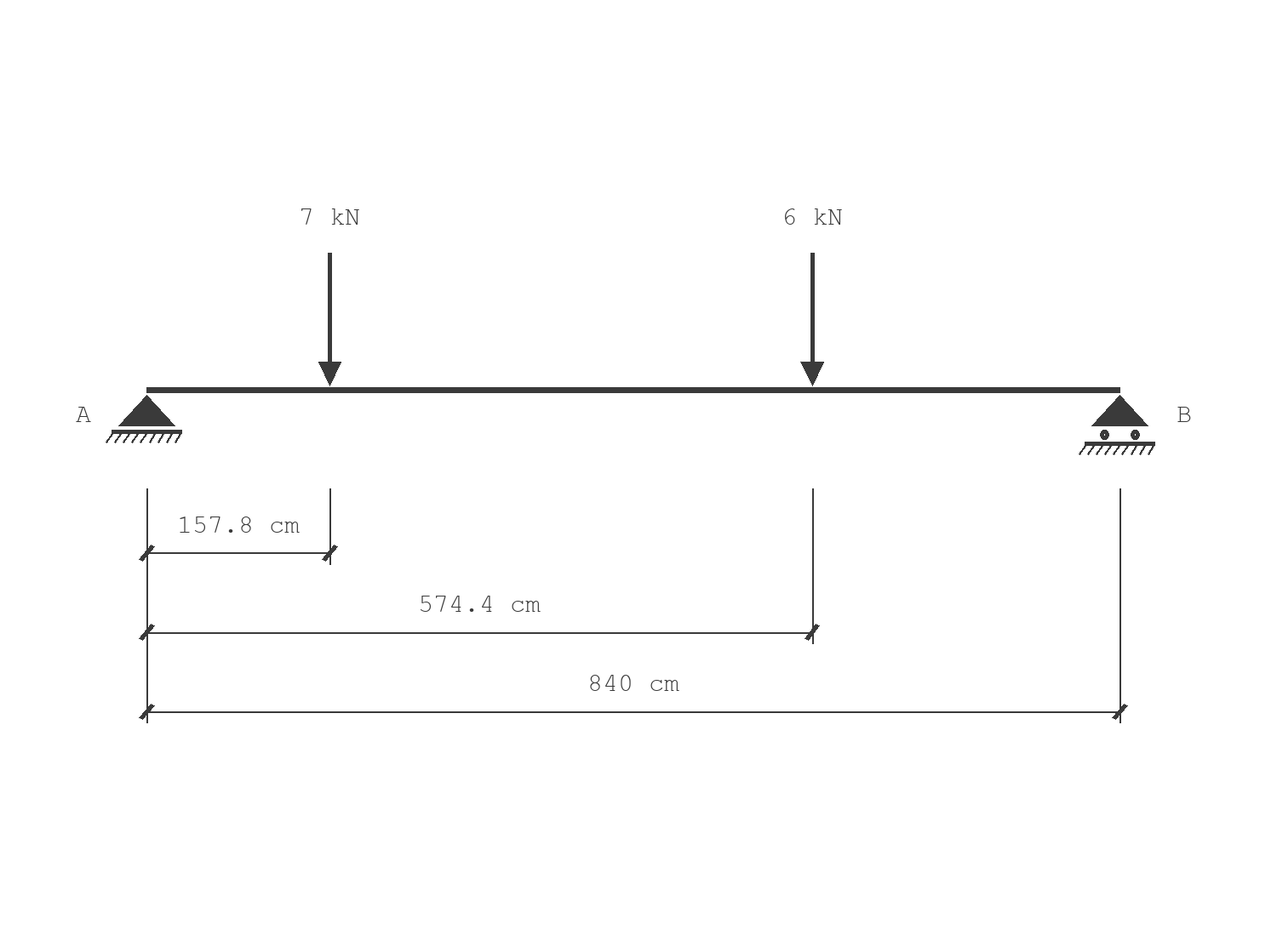pin_support: (106, 395, 182, 443)
point_load: (800, 253, 824, 386), (318, 253, 341, 386)
roller_support: (1079, 395, 1155, 455)
